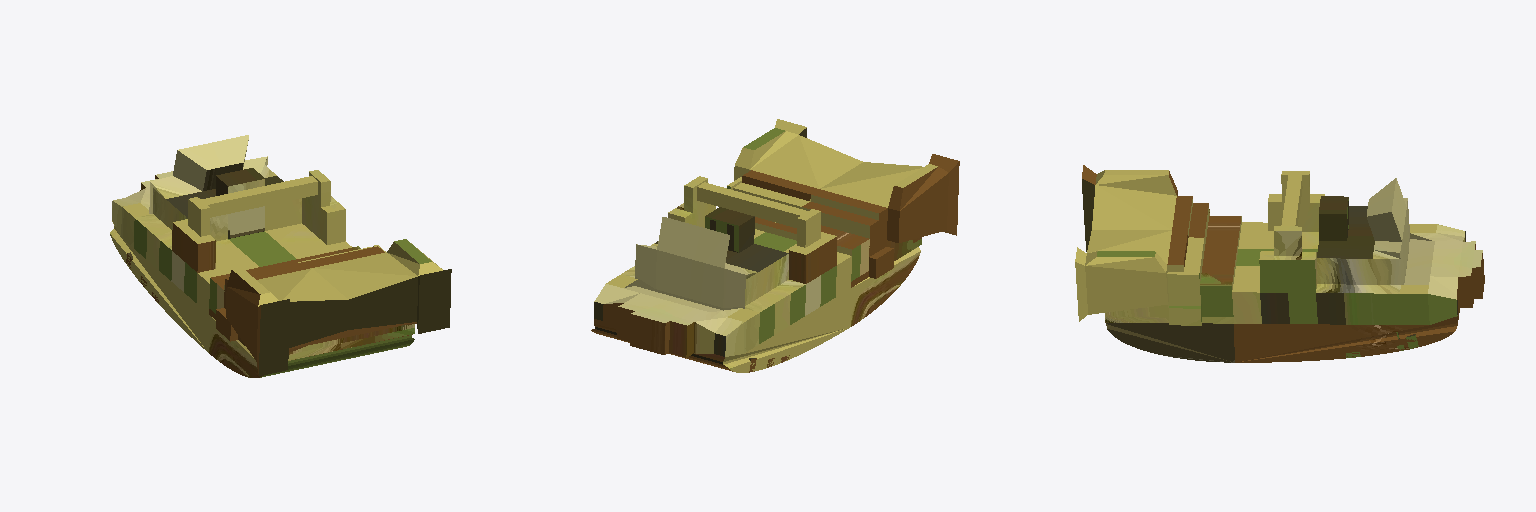
3 views of the same model, side by side, from view 1: azimuth 30°, elevation 25°; view 2: azimuth 150°, elevation 25°; view 3: azimuth 270°, elevation 25° (orthographic).
Parts seen in each view (by area): view 1: Cube; view 2: Cube; view 3: Cube.
Boxes of the visible parts, x1,y1,x2,y2 form: Cube: [110, 135, 451, 377]; Cube: [591, 119, 959, 372]; Cube: [1075, 165, 1484, 362].
Bounding box in the file's own units: 6.58 × 4.61 × 12.51.
1 materials, 1 textured.